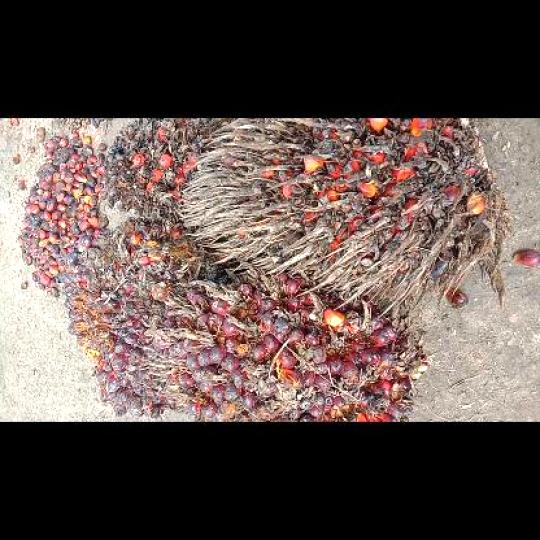masak: (148, 272, 428, 421), (59, 217, 245, 416)
terlalu masak: (178, 118, 510, 316), (105, 118, 217, 222)
